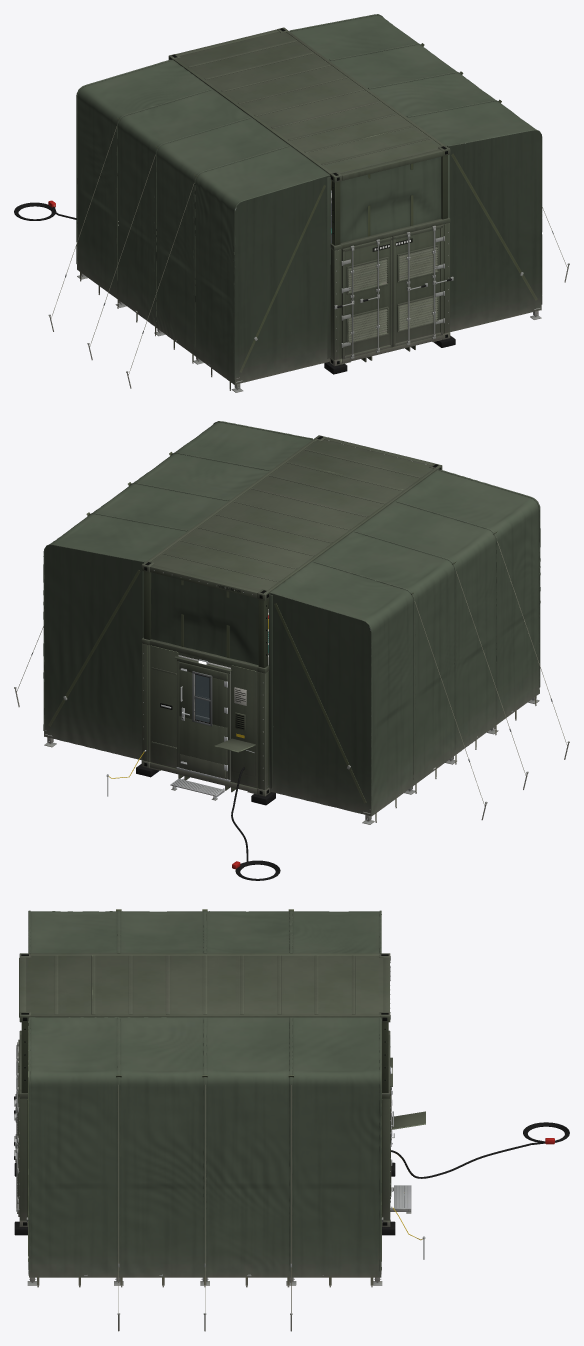
The model's file is ehmecc-deployed-fitted-web.glb.
3 views of the same model, one above another, from view 1: azimuth 30°, elevation 25°; view 2: azimuth 150°, elevation 25°; view 3: azimuth 270°, elevation 25° (orthographic). The views are drawn at different scales.
Parts seen in each view (by area): view 1: EHMECC_expansion_L, EHMECC_core, EHMECC_expansion_R, EHMECC_site_kit; view 2: EHMECC_expansion_L, EHMECC_core, EHMECC_expansion_R, EHMECC_site_kit; view 3: EHMECC_expansion_R, EHMECC_core, EHMECC_expansion_L, EHMECC_site_kit.
Part boxes in pixels (x1,y1,x2,y2): EHMECC_expansion_L: (76, 59, 330, 392); EHMECC_core: (168, 27, 455, 374); EHMECC_expansion_R: (289, 14, 542, 332); EHMECC_site_kit: (14, 43, 569, 388); EHMECC_expansion_L: (269, 469, 540, 824); EHMECC_core: (136, 435, 442, 805); EHMECC_expansion_R: (43, 421, 312, 760); EHMECC_site_kit: (14, 452, 569, 880); EHMECC_expansion_R: (26, 1017, 383, 1287); EHMECC_core: (14, 953, 425, 1235); EHMECC_expansion_L: (28, 910, 381, 953); EHMECC_site_kit: (116, 909, 569, 1331).
Bounding box in the file's own units: 9.34 × 4.23 × 9.09.
82 materials, 28 textured.
